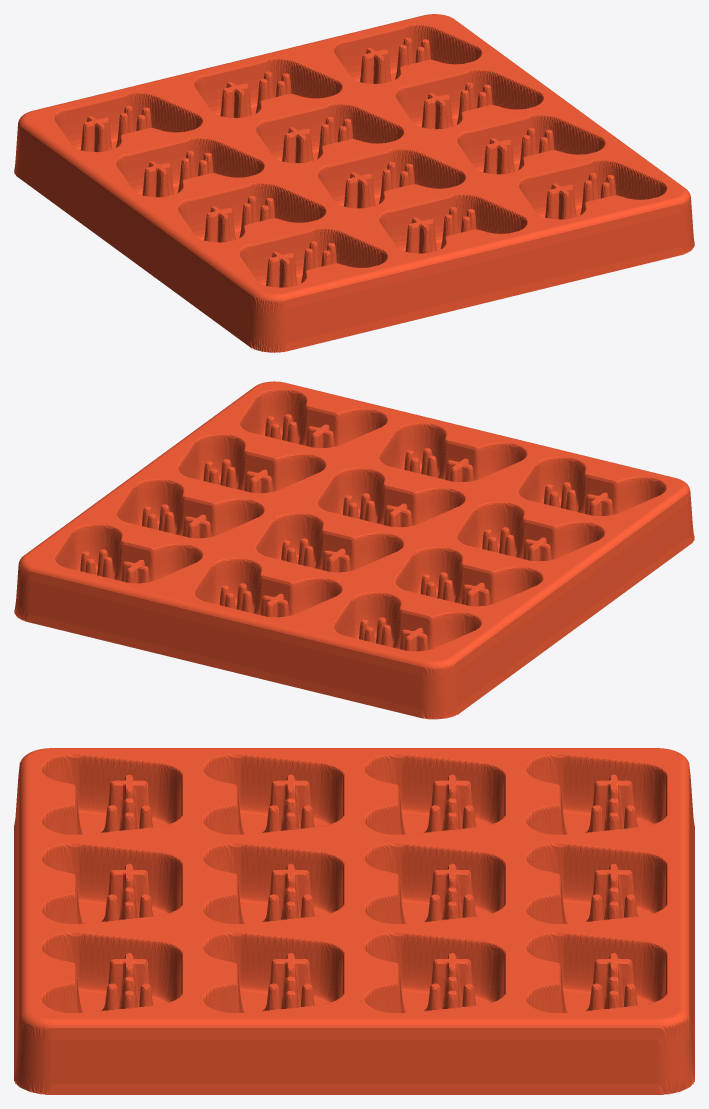
File: mold.glb
3 views of the same model, one above another, from view 1: azimuth 30°, elevation 25°; view 2: azimuth 150°, elevation 25°; view 3: azimuth 270°, elevation 25° (orthographic). The views are drawn at different scales.
Parts seen in each view (by area): view 1: geometry_0; view 2: geometry_0; view 3: geometry_0.
Boxes of the visible parts, <box> form: geometry_0: <box>14,14,694,352</box>; geometry_0: <box>14,381,694,719</box>; geometry_0: <box>14,748,694,1094</box>.
Bounding box in the file's own units: 0.1598 × 0.0185 × 0.1629.
